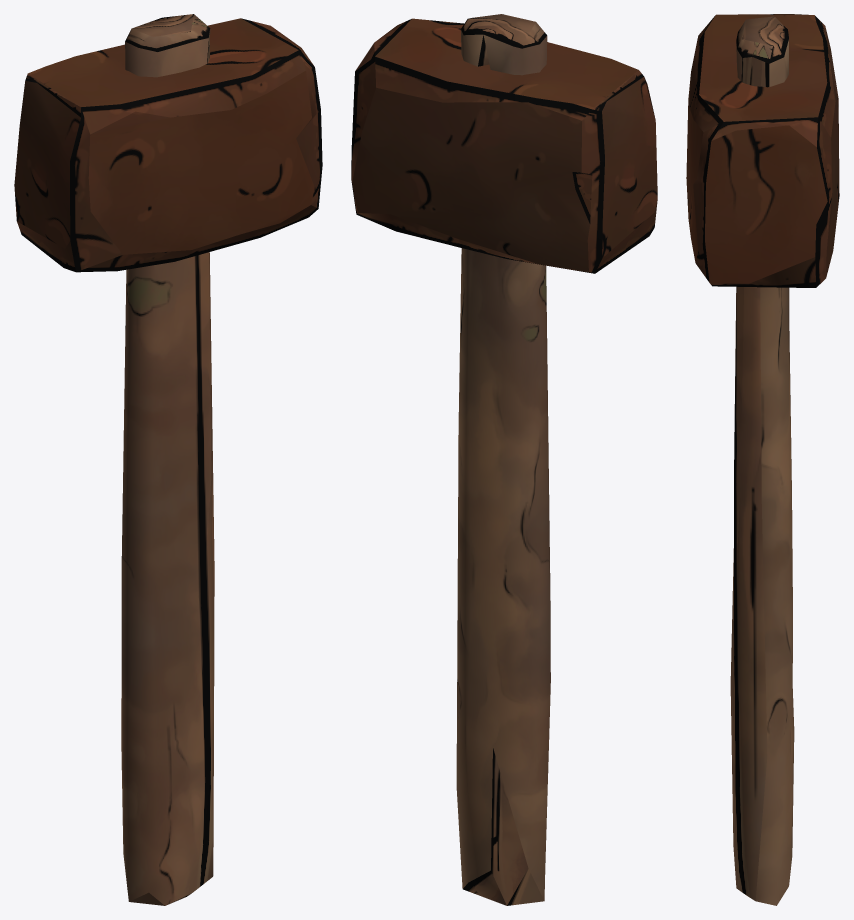
Rendered from Hammer_01.fbx.
The picture shows the model from 3 angles, left to right: view 1: azimuth 30°, elevation 25°; view 2: azimuth 150°, elevation 25°; view 3: azimuth 270°, elevation 25°; orthographic projection.
Parts seen in each view (by area): view 1: Hammer_01; view 2: Hammer_01; view 3: Hammer_01.
Boxes of the visible parts, x1,y1,x2,y2 form: Hammer_01: (14, 14, 322, 905); Hammer_01: (351, 14, 657, 905); Hammer_01: (686, 14, 839, 905).
Bounding box in the file's own units: 0.1972 × 0.6457 × 0.1041.
